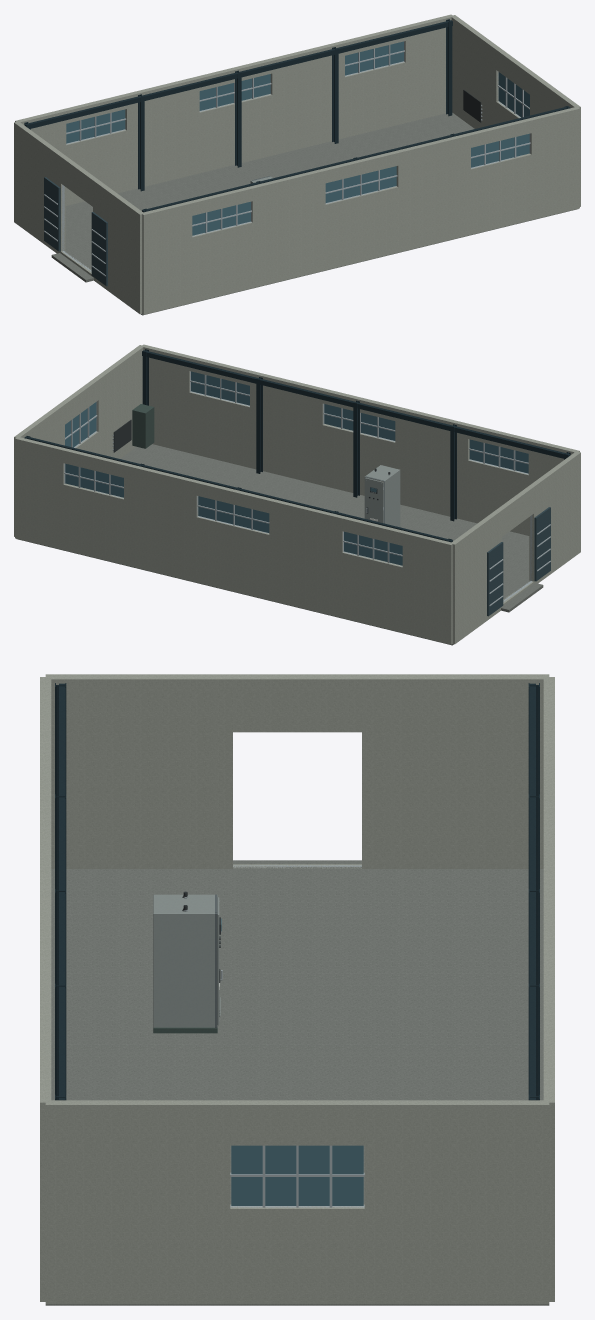
Rendered from mine-distribution-drilldown.glb.
3 views of the same model, one above another, from view 1: azimuth 30°, elevation 25°; view 2: azimuth 150°, elevation 25°; view 3: azimuth 270°, elevation 25° (orthographic). The views are drawn at different scales.
Visible parts, largest first — view 1: distribution-shell-walls__Power_wall, distribution-shell-floor__Power_concrete, distribution-shell-walls__Power_glass, distribution-shell-structure__Power_steel, distribution-shell-walls__Power_trim, distribution-shell-walls__Power_roof, distribution-shell-walls__Power_dark; view 2: distribution-shell-walls__Power_wall, distribution-shell-floor__Power_concrete, distribution-shell-walls__Power_glass, distribution-shell-structure__Power_steel, distribution-shell-walls__Power_trim, distribution-shell-walls__Power_roof, cabinet-frame__Drilldown_paint, distribution-shell-walls__Power_machine, cabinet-door__Drilldown_paint, distribution-shell-walls__Power_dark; view 3: distribution-shell-walls__Power_wall, distribution-shell-floor__Power_concrete, distribution-shell-structure__Power_steel, cabinet-frame__Drilldown_paint, distribution-shell-walls__Power_glass, distribution-shell-walls__Power_trim.
Part boxes in pixels (x1,y1,x2,y2): distribution-shell-walls__Power_wall: (14,14,580,314); distribution-shell-floor__Power_concrete: (51,113,578,315); distribution-shell-walls__Power_glass: (66,41,529,235); distribution-shell-structure__Power_steel: (24,19,570,212); distribution-shell-walls__Power_trim: (44,41,530,276); distribution-shell-walls__Power_roof: (44,177,107,286); distribution-shell-walls__Power_dark: (463,89,481,122); distribution-shell-walls__Power_wall: (14,344,580,644); distribution-shell-floor__Power_concrete: (16,444,543,645); distribution-shell-walls__Power_glass: (65,371,528,565); distribution-shell-structure__Power_steel: (24,349,570,542); distribution-shell-walls__Power_trim: (64,371,550,606); distribution-shell-walls__Power_roof: (487,507,550,616); cabinet-frame__Drilldown_paint: (364,465,400,526); distribution-shell-walls__Power_machine: (132,404,154,448); cabinet-door__Drilldown_paint: (365,478,383,523); distribution-shell-walls__Power_dark: (113,419,131,452); distribution-shell-walls__Power_wall: (40,674,554,1304); distribution-shell-floor__Power_concrete: (45,860,549,1305); distribution-shell-structure__Power_steel: (55,683,539,1100); cabinet-frame__Drilldown_paint: (153,894,217,1027); distribution-shell-walls__Power_glass: (231,1145,363,1205); distribution-shell-walls__Power_trim: (230,865,364,1207).
Bounding box in the file's own units: 18.54 × 4 × 9.2.
Materials: 15 (7 with a texture image).
